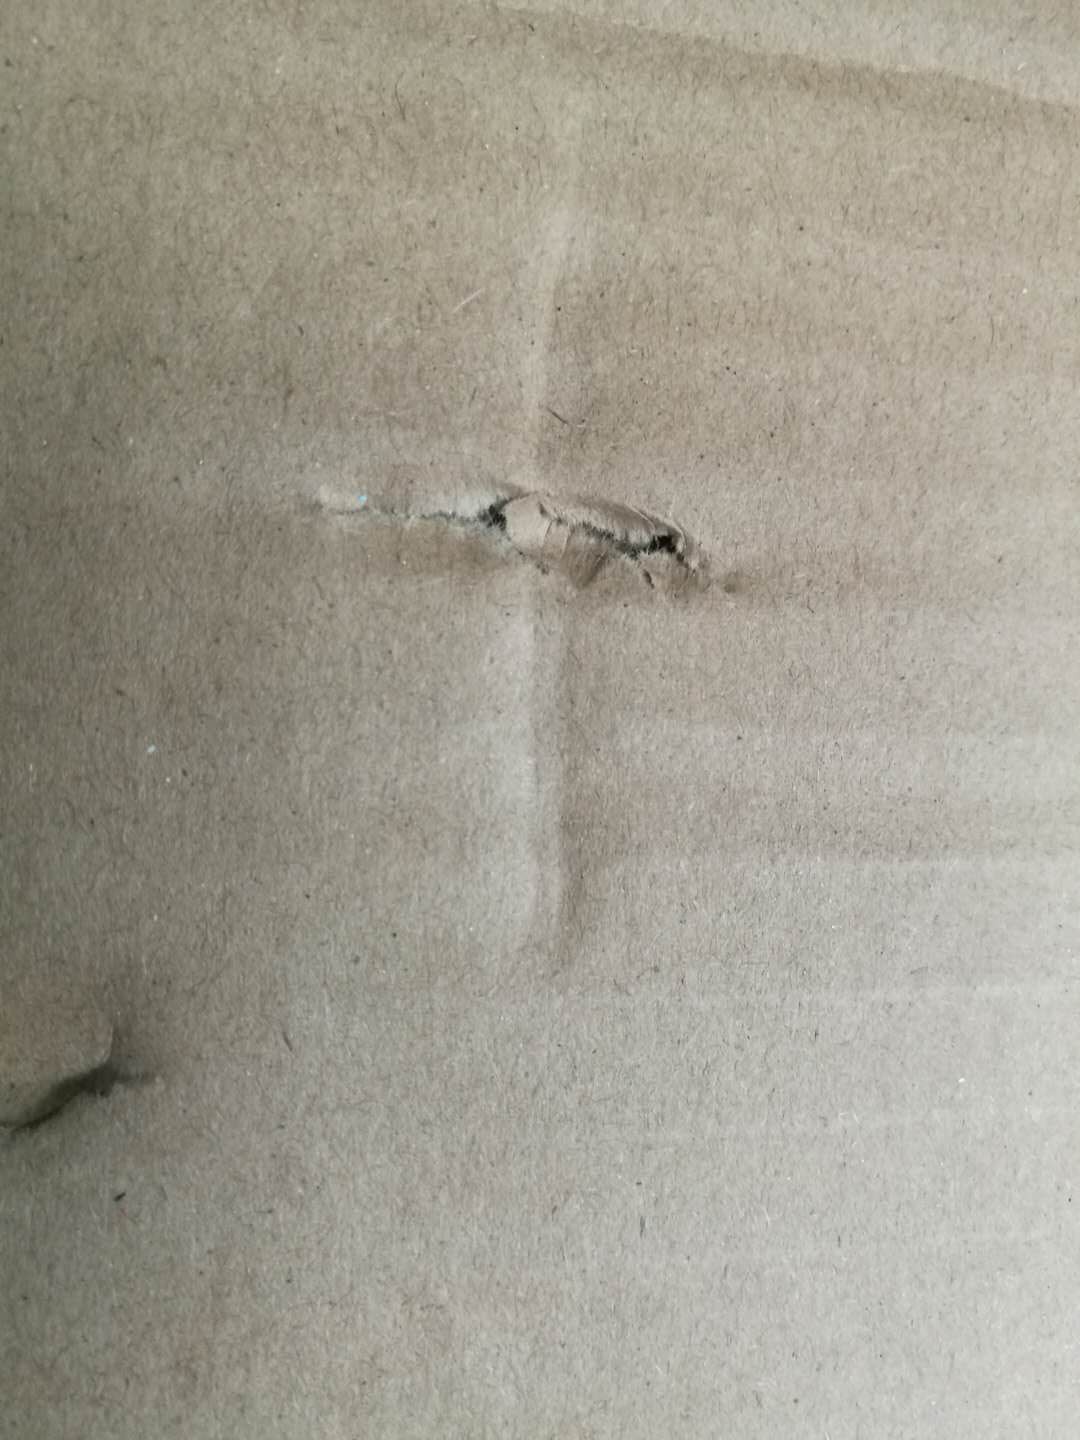defect: (463, 90, 686, 1003), (220, 418, 815, 659), (503, 1, 1080, 173), (3, 982, 197, 1161)
